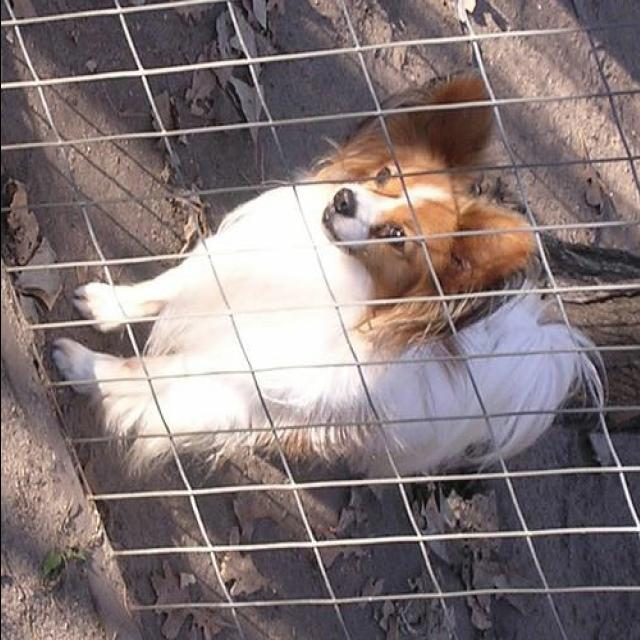papillon: (56, 89, 612, 477)
